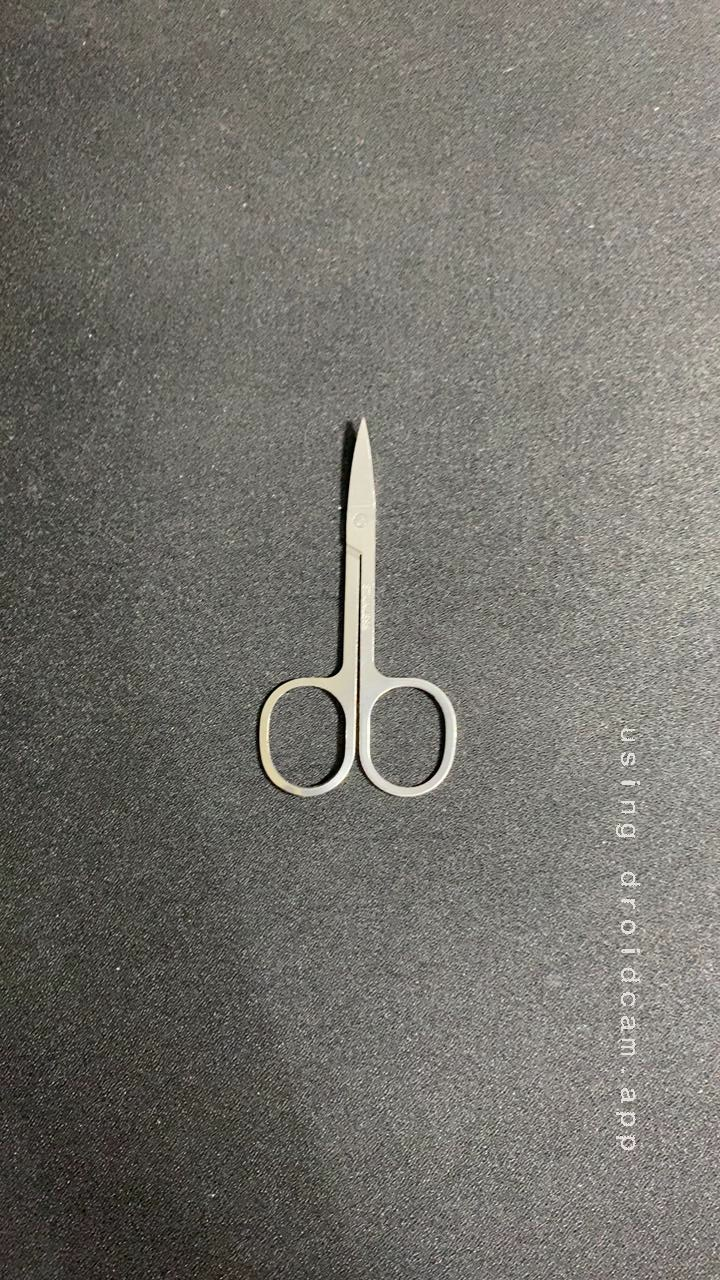scissor: (225, 400, 484, 804)
